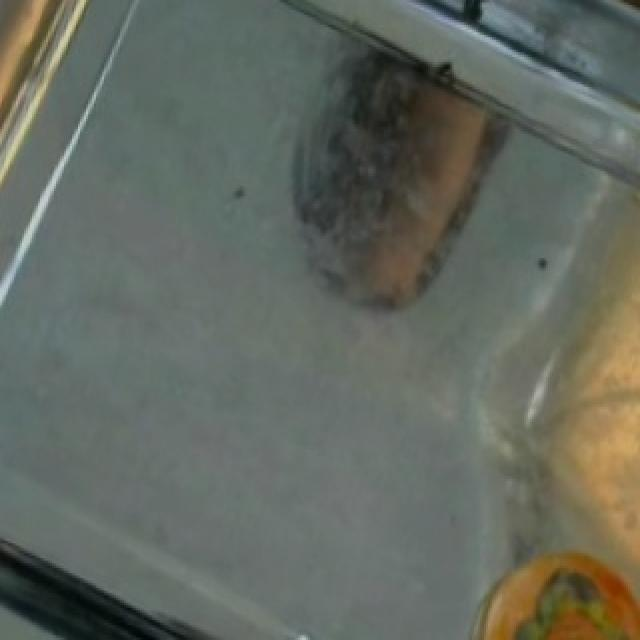Fruit: (454, 528, 636, 638)
